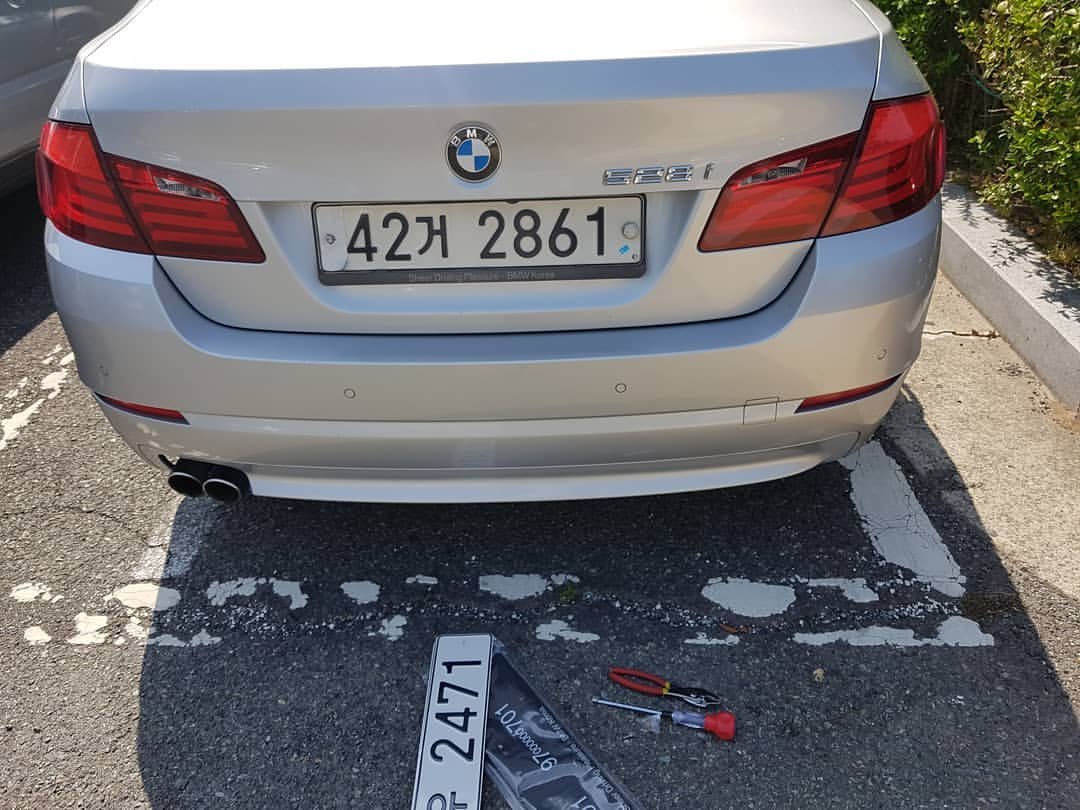plate: (316, 198, 642, 274)
